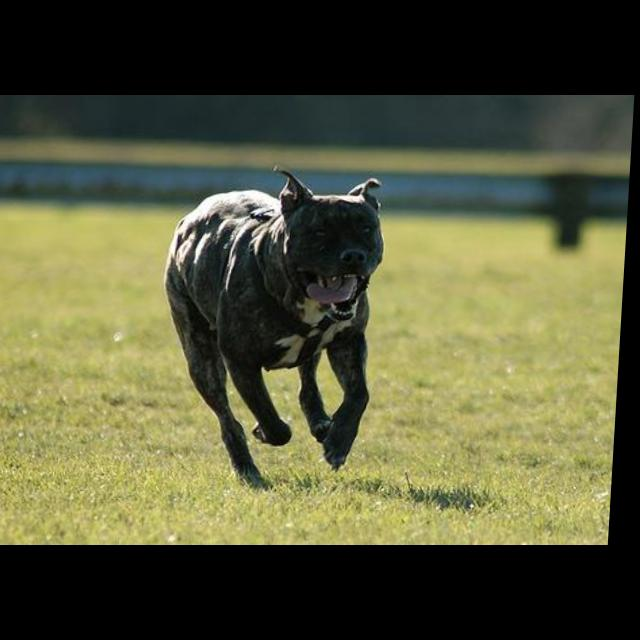amstaff: (159, 167, 394, 493)
